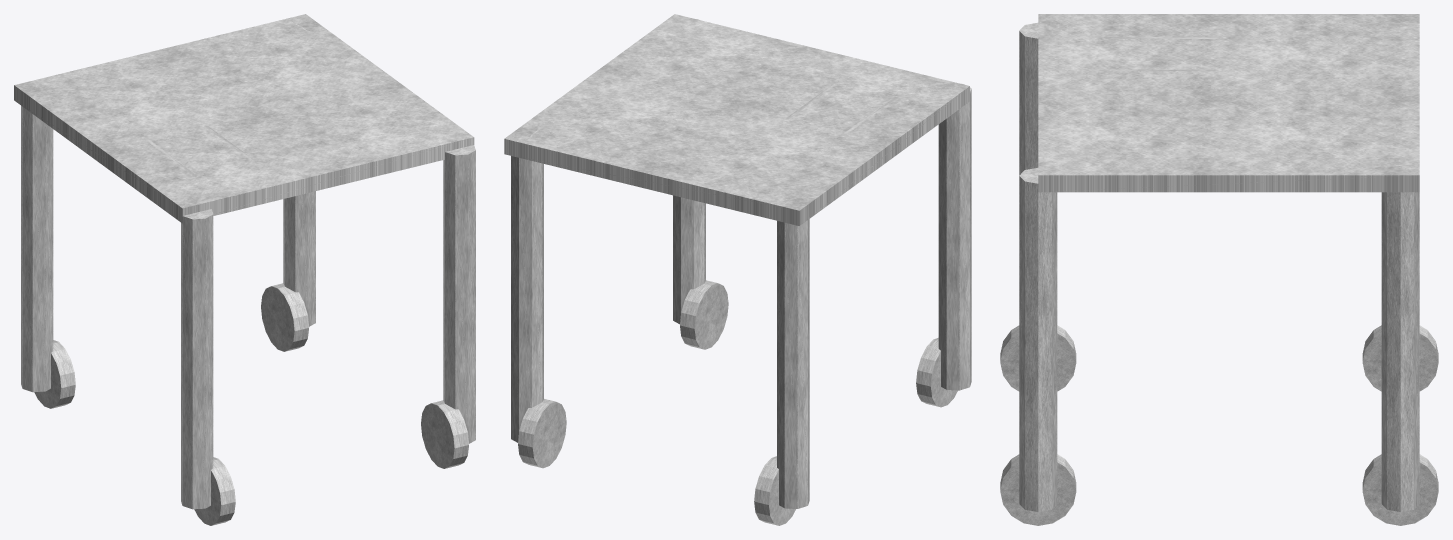
Rendered from cart1.fbx.
The picture shows the model from 3 angles, left to right: view 1: azimuth 30°, elevation 25°; view 2: azimuth 150°, elevation 25°; view 3: azimuth 270°, elevation 25°; orthographic projection. The views are drawn at different scales.
Parts seen in each view (by area): view 1: Cart1; view 2: Cart1; view 3: Cart1.
Part boxes in pixels (x1=…): Cart1: x1=14, y1=14, x2=475, y2=525; Cart1: x1=504, y1=14, x2=971, y2=525; Cart1: x1=1000, y1=14, x2=1438, y2=525.
Bounding box in the file's own units: 100 × 105 × 115.
Materials: 1 (1 with a texture image).
